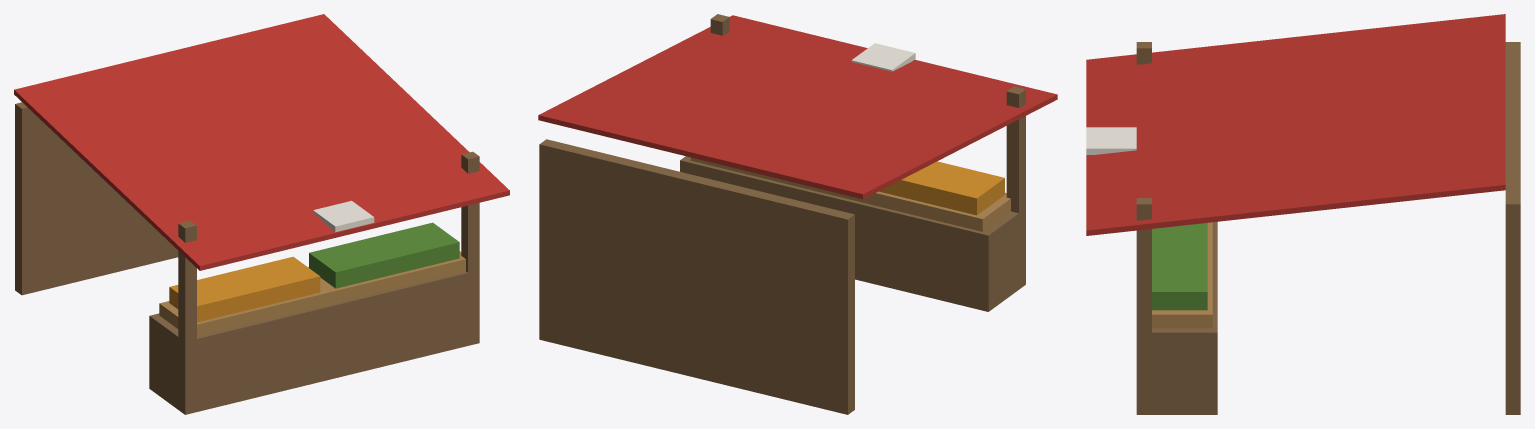
Rendered from stall-open.glb.
The picture shows the model from 3 angles, left to right: view 1: azimuth 30°, elevation 25°; view 2: azimuth 150°, elevation 25°; view 3: azimuth 270°, elevation 25°; orthographic projection. The views are drawn at different scales.
Visible parts, largest first — view 1: stall-open; view 2: stall-open; view 3: stall-open.
Boxes of the visible parts, x1,y1,x2,y2 form: stall-open: [14, 14, 509, 414]; stall-open: [538, 14, 1057, 414]; stall-open: [1086, 14, 1520, 414].
Bounding box in the file's own units: 4 × 2.56 × 4.3.
